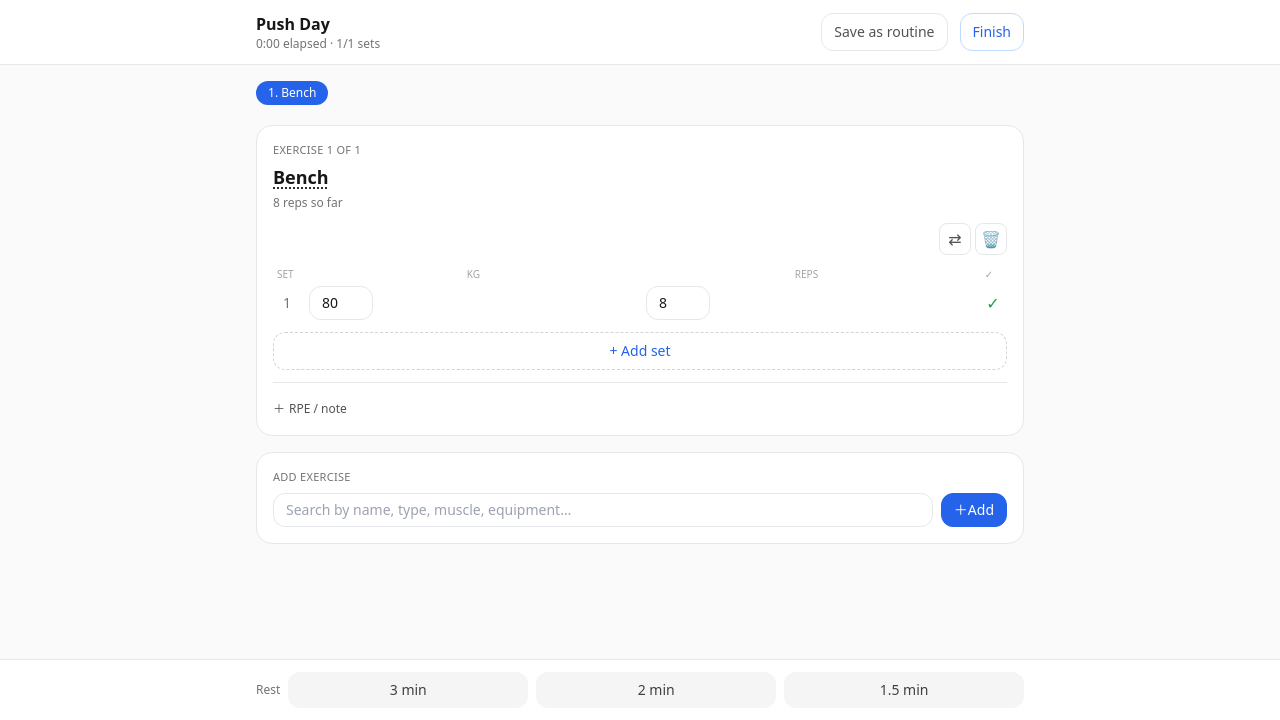
Test: LiveSession › shows the running rep total for the current exercise
Expected: the text "8 reps so far" is shown, [273,194,343,210]
Click the button "+ Add set" at (640, 350), box [273,332,1007,370]
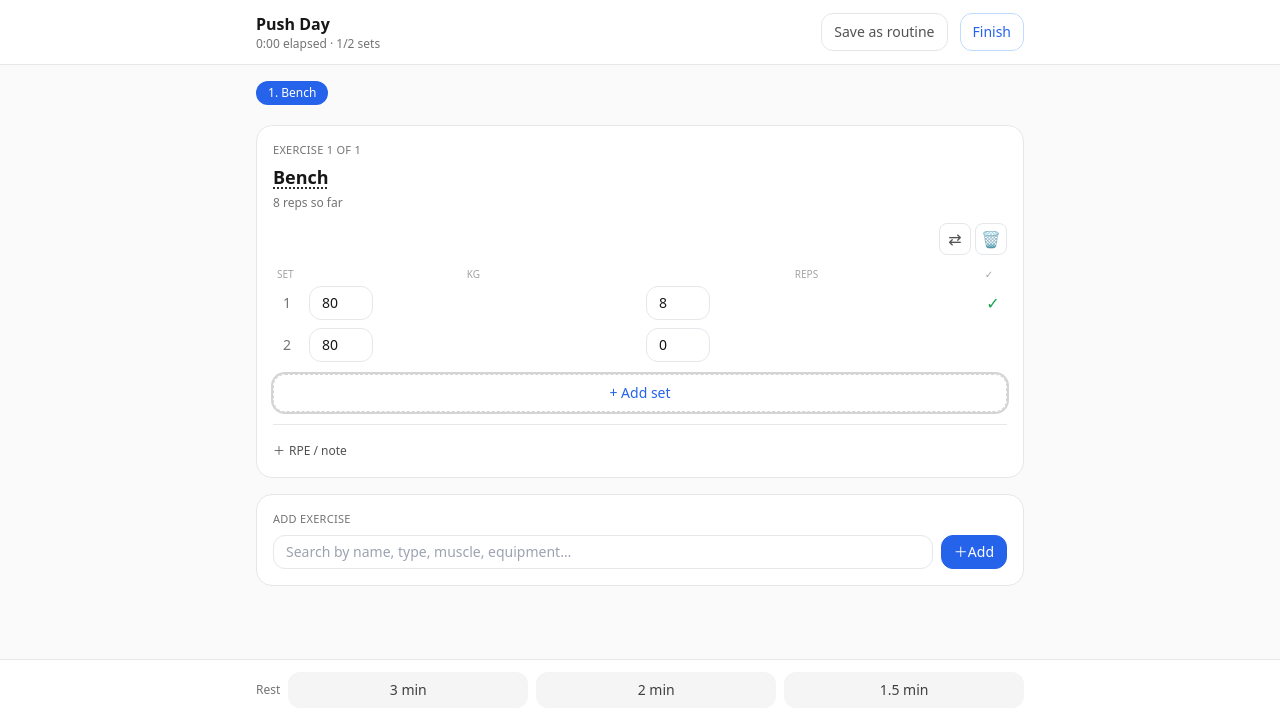
Type "5" into the 4th number field at (678, 344), box [646,328,710,362]
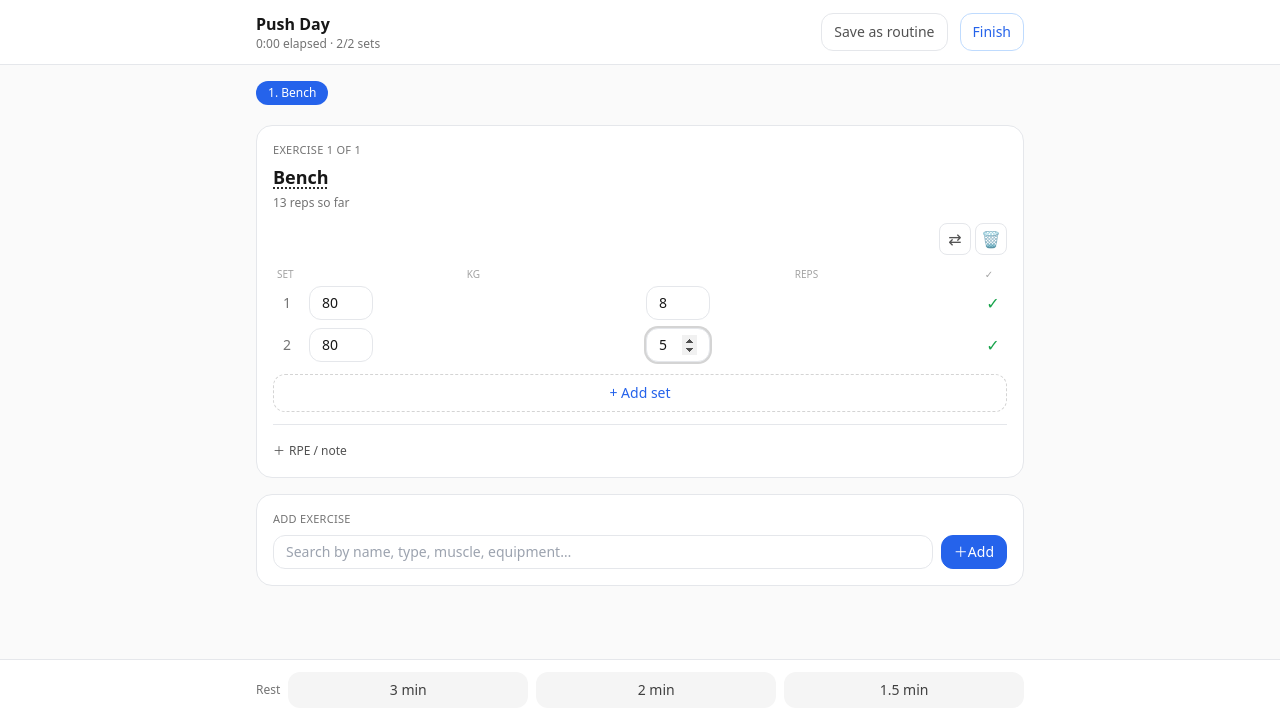
Expected: the text "13 reps so far" is shown, [273,194,350,210]
